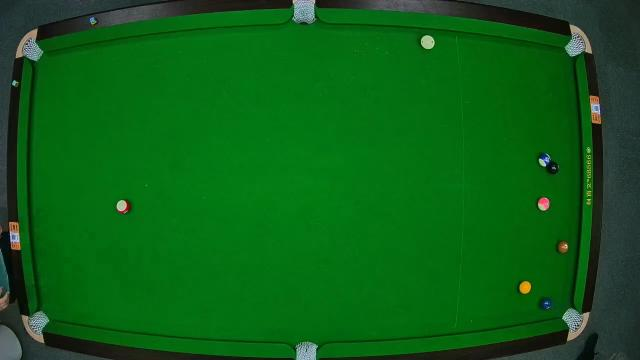bag1: (20, 40, 40, 60)
bag2: (292, 0, 316, 26)
bag3: (566, 35, 588, 56)
bag4: (28, 312, 50, 332)
bag5: (294, 340, 318, 360)
bag6: (562, 310, 582, 330)
ball0: (419, 36, 436, 50)
ball1: (519, 280, 533, 295)
ball10: (538, 153, 552, 167)
ball11: (115, 198, 132, 214)
ball12: (537, 196, 551, 212)
ball2: (538, 296, 554, 312)
ball7: (556, 239, 568, 253)
ball8: (546, 159, 560, 173)
